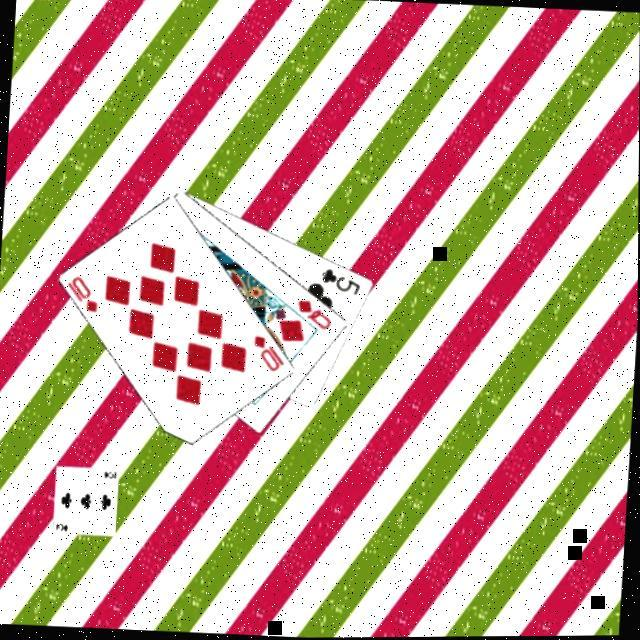10D: (248, 333, 288, 376), (62, 273, 102, 316)
5C: (317, 266, 364, 298)
QD: (292, 298, 335, 334)
